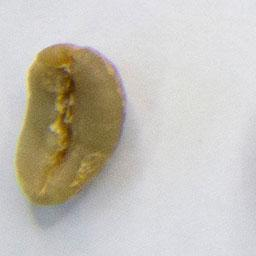longberry: (11, 38, 133, 211)
